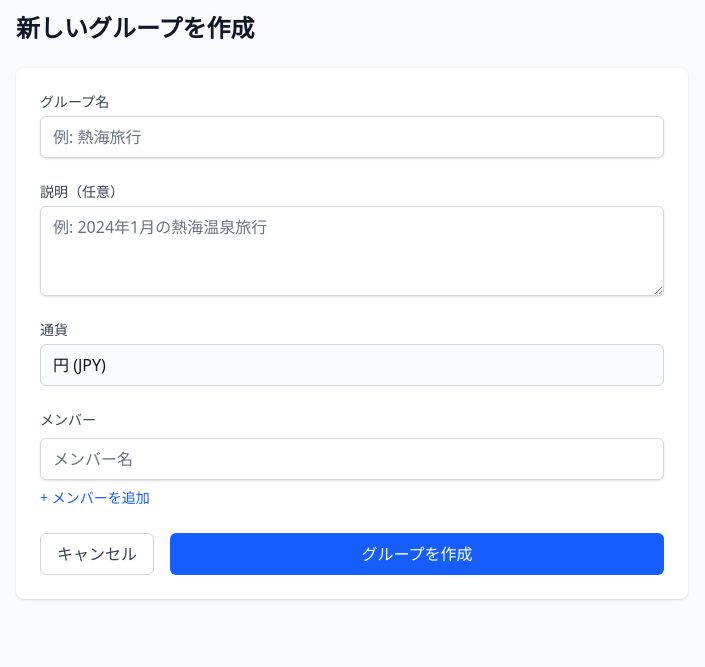
Test: CreateGroupPage › 「メンバーを追加」クリック時にメンバー入力フィールドを追加する
The image size is (705, 667).
Click the button with aria-label "新しいメンバーを追加".
click(95, 498)  # box [40, 488, 150, 508]
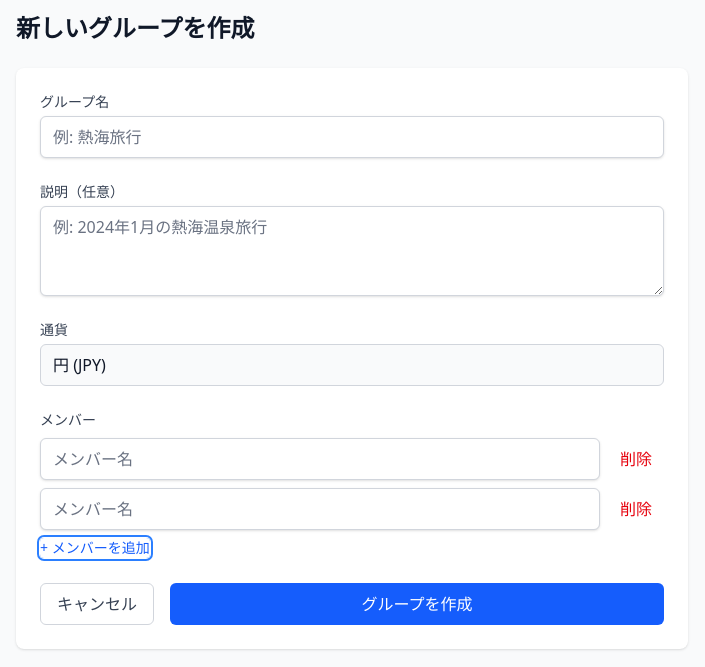
Now the number of fields with placeholder "メンバー名" is 2, box [40, 438, 600, 480]; [40, 488, 600, 530]
